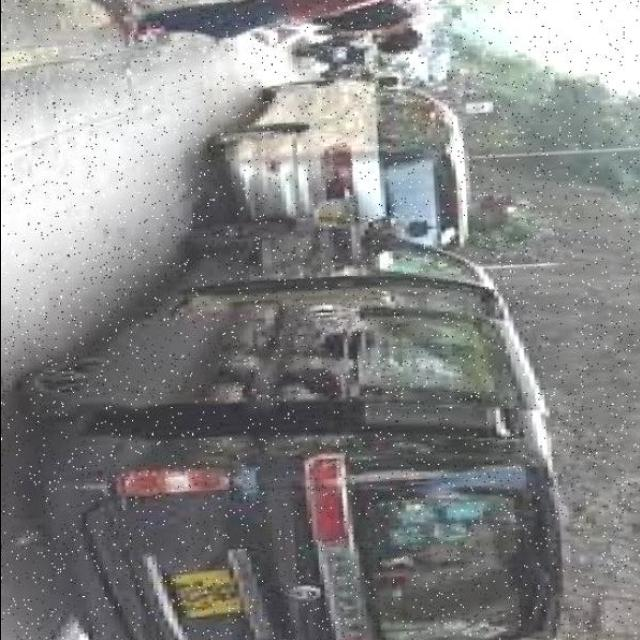accident: (197, 130, 483, 354)
